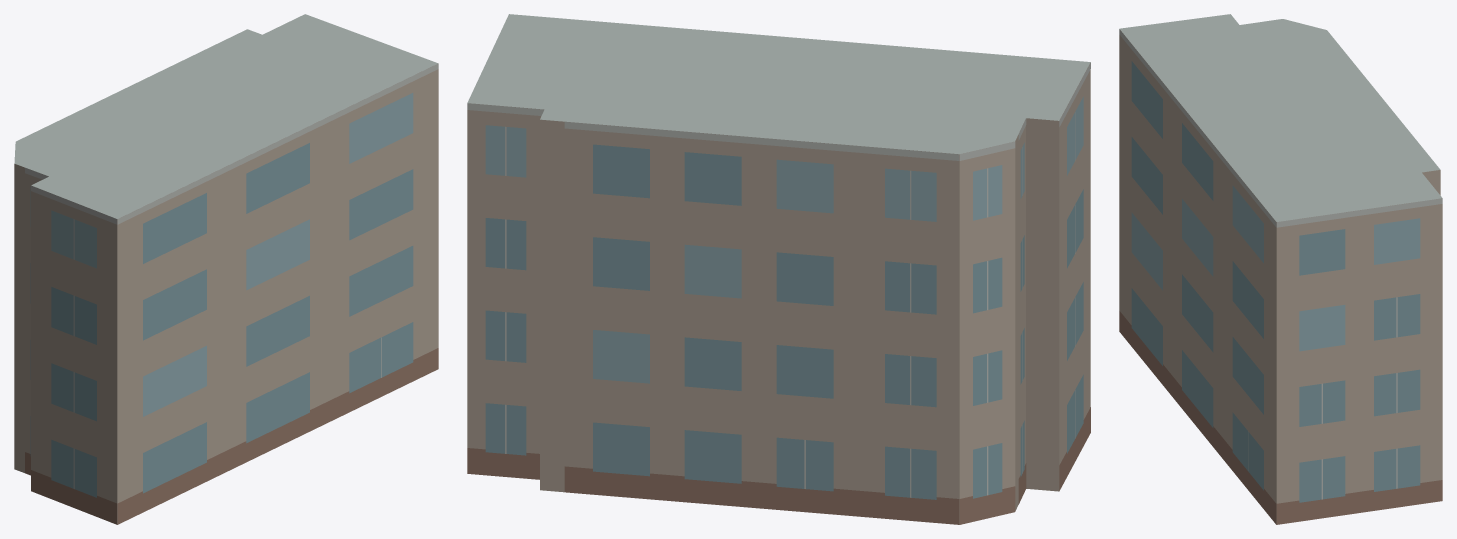
The model's file is survey-upis-32614775.glb.
3 views of the same model, side by side, from view 1: azimuth 30°, elevation 25°; view 2: azimuth 150°, elevation 25°; view 3: azimuth 270°, elevation 25° (orthographic). The views are drawn at different scales.
Visible parts, largest first — view 1: survey-upis-32614775.tmp; view 2: survey-upis-32614775.tmp; view 3: survey-upis-32614775.tmp.
Part boxes in pixels (x1,y1,x2,y2): survey-upis-32614775.tmp: (14, 14, 438, 524); survey-upis-32614775.tmp: (467, 14, 1090, 524); survey-upis-32614775.tmp: (1119, 14, 1442, 524).
Bounding box in the file's own units: 19.47 × 13.2 × 12.79.
